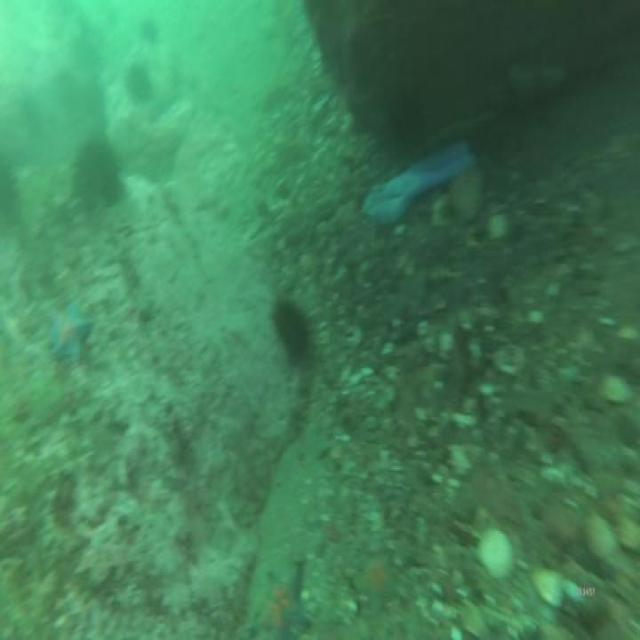echinus: (71, 133, 120, 210), (270, 294, 313, 368), (124, 61, 154, 108)
starfish: (253, 562, 312, 640), (349, 552, 404, 624), (44, 298, 92, 364)
